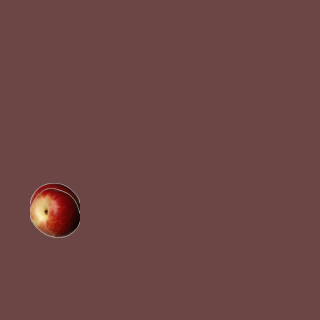Apple Braeburn: (29, 182, 79, 232)
Nectarine: (29, 187, 79, 237)
